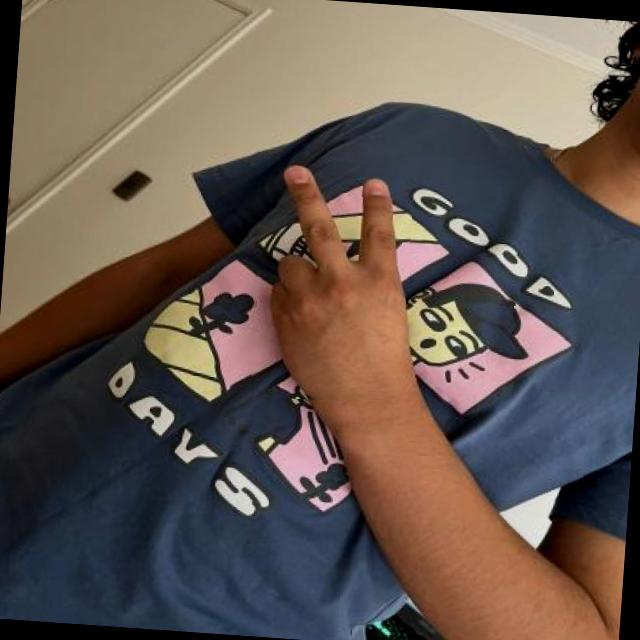V: (247, 156, 416, 406)
